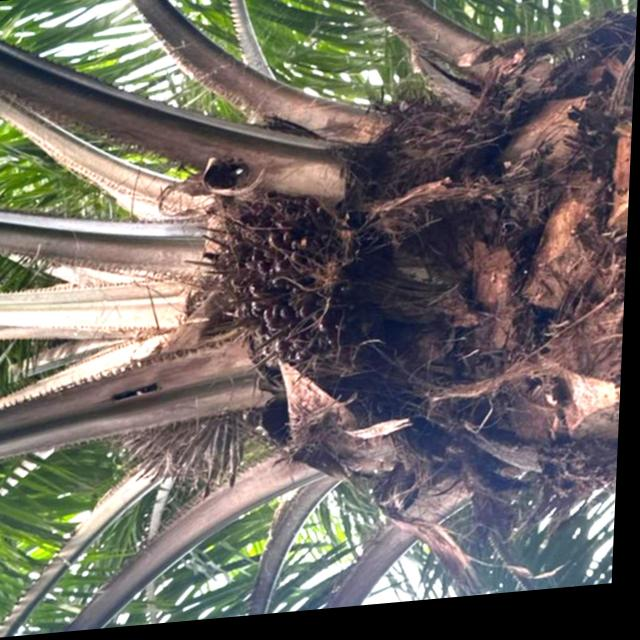ripe: (216, 199, 364, 373)
